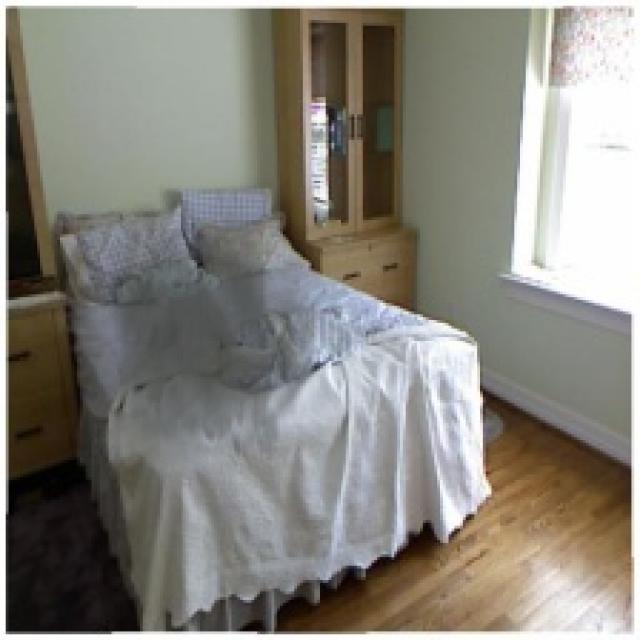smoke: (100, 228, 314, 488)
